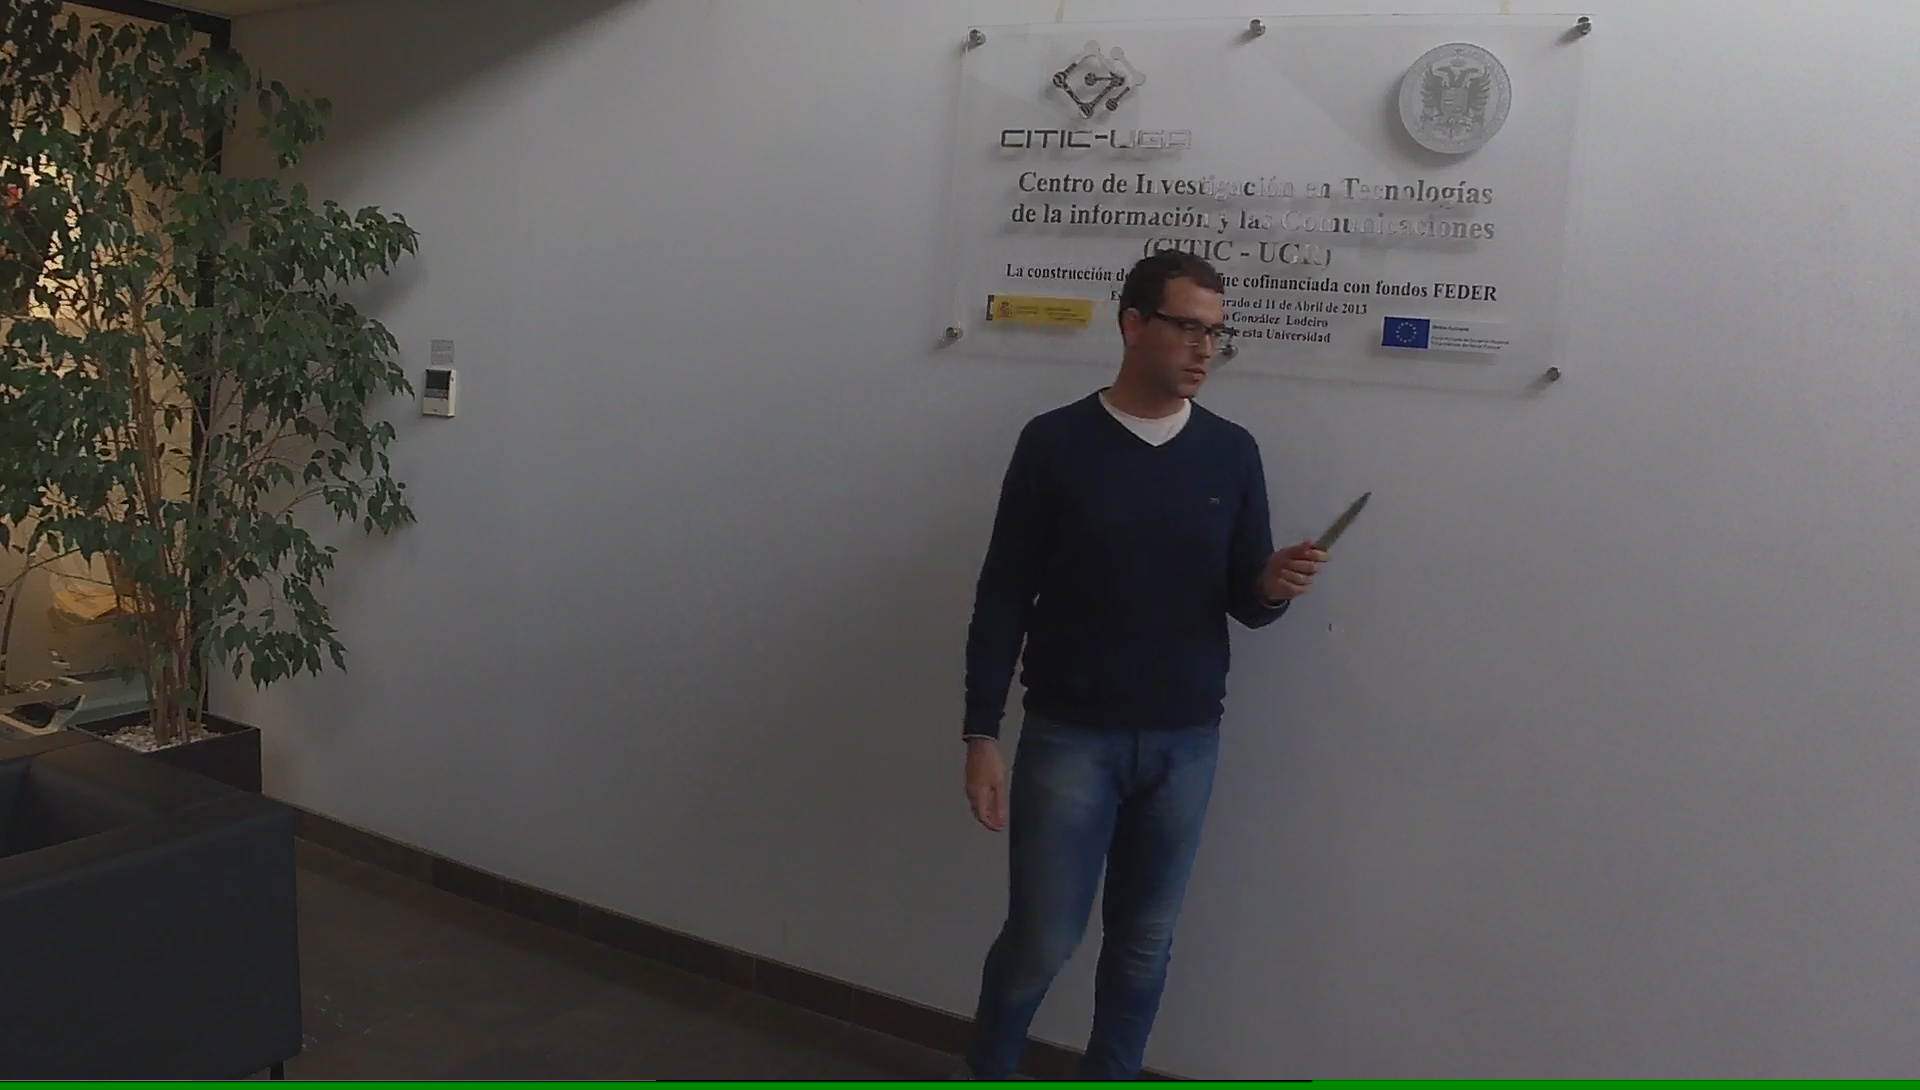knife: (1278, 480, 1383, 590)
